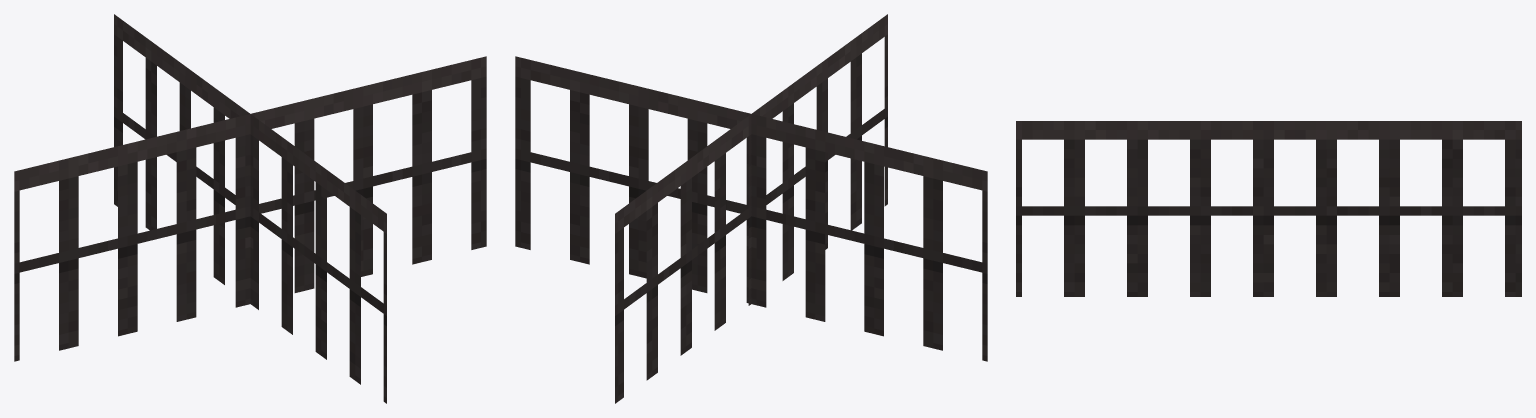
Rendered from tree_small.glb.
The picture shows the model from 3 angles, left to right: view 1: azimuth 30°, elevation 25°; view 2: azimuth 150°, elevation 25°; view 3: azimuth 270°, elevation 25°; orthographic projection. The views are drawn at different scales.
Visible parts, largest first — view 1: tree-small; view 2: tree-small; view 3: tree-small.
Boxes of the visible parts, x1=… form: tree-small: x1=14, y1=14, x2=486, y2=403; tree-small: x1=515, y1=14, x2=987, y2=403; tree-small: x1=1016, y1=121, x2=1521, y2=296.
Size of the model in its own units: 0.78 by 0.3 by 0.78.
1 material, 1 textured.
